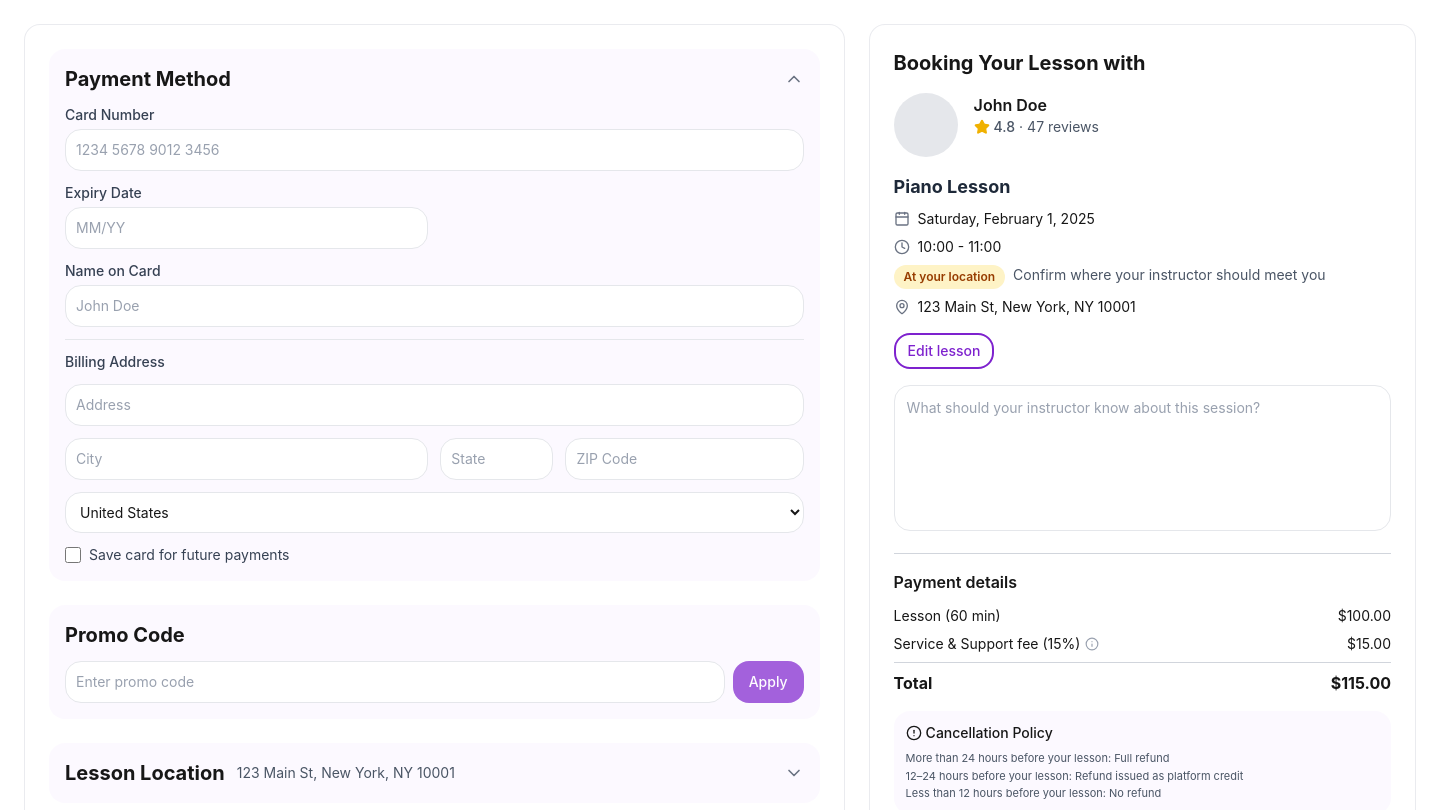
Test: PaymentConfirmation › promo code action handling › enables apply button when promo code is entered
Expected: the button "Apply" is disabled, [733,661,804,703]
Type something - button should become enabled
In the field with placeholder "Enter promo code": (395, 682) [65,661,725,703], type "SAVE"
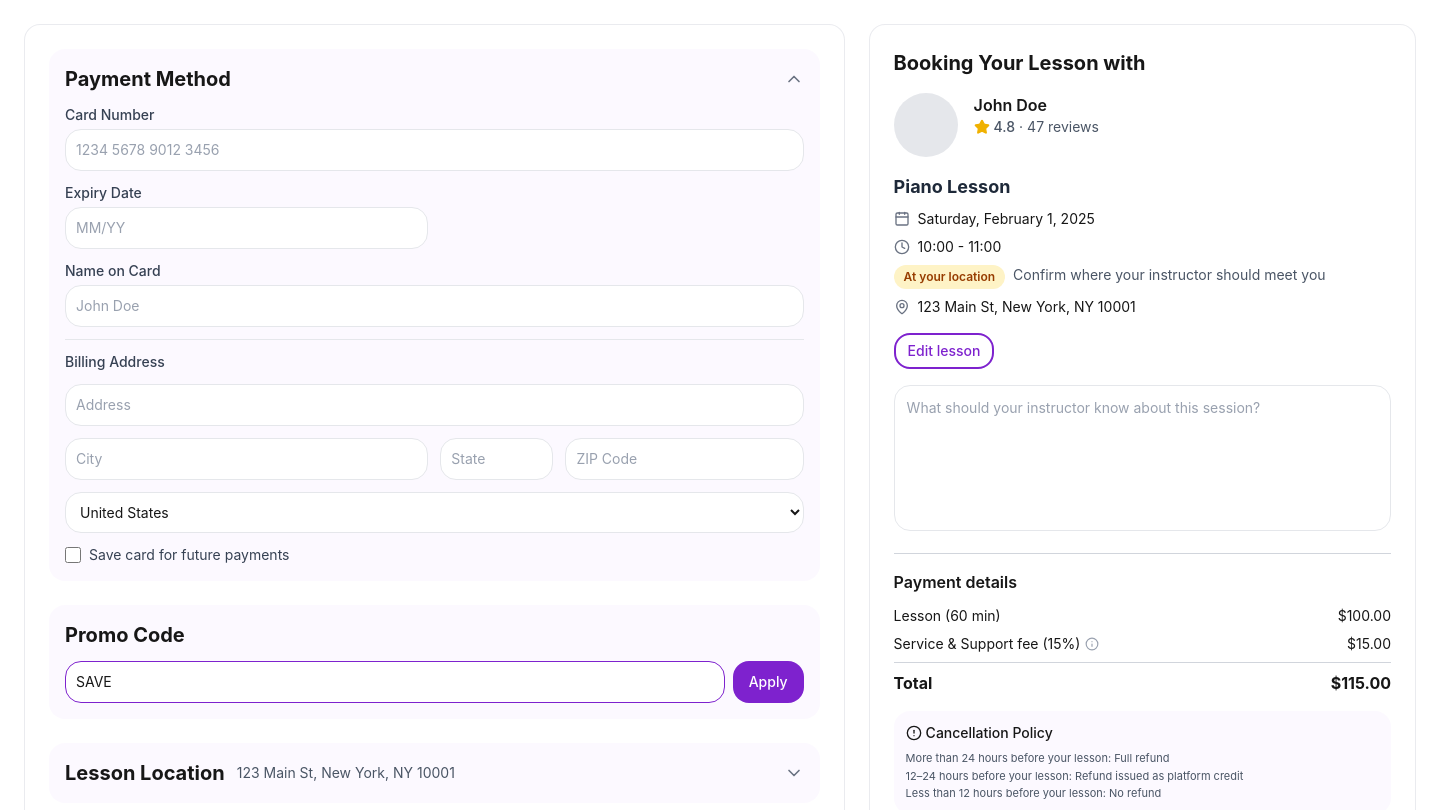
Now the button "Apply" is enabled, box [733,661,804,703]
